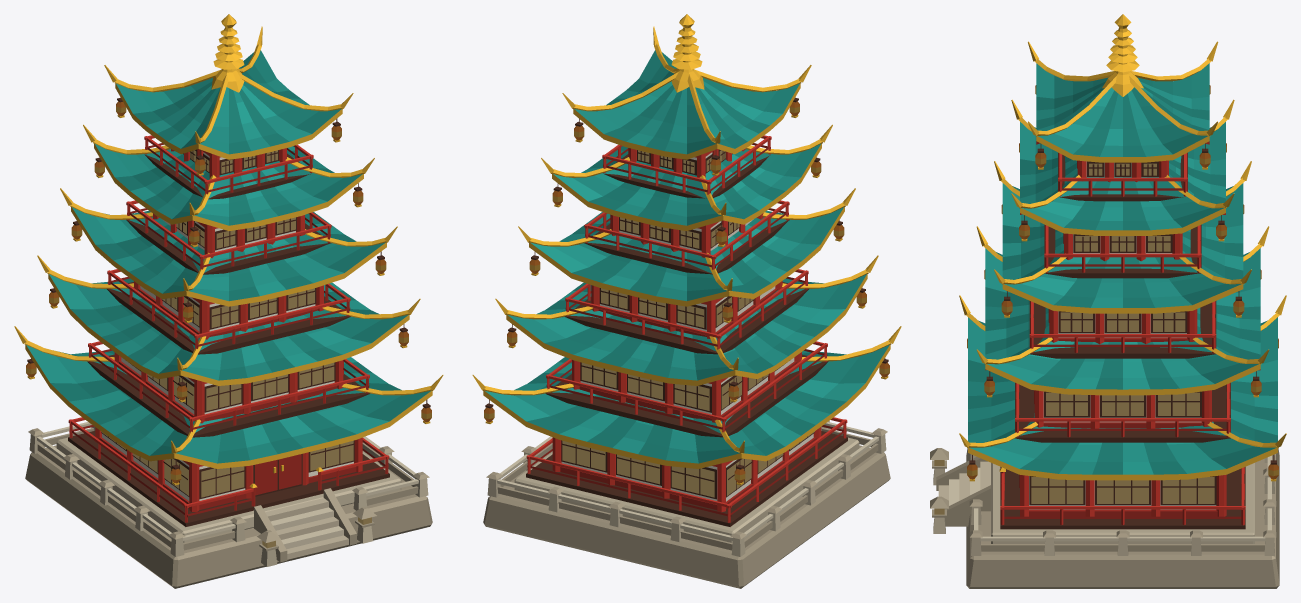
File: pagoda.glb
3 views of the same model, side by side, from view 1: azimuth 30°, elevation 25°; view 2: azimuth 150°, elevation 25°; view 3: azimuth 270°, elevation 25° (orthographic). The views are drawn at different scales.
Visible parts, largest first — view 1: pagoda; view 2: pagoda; view 3: pagoda.
Boxes of the visible parts, x1,y1,x2,y2 form: pagoda: (14, 14, 443, 588); pagoda: (472, 14, 901, 588); pagoda: (930, 14, 1286, 588).
Bounding box in the file's own units: 15.63 × 26.85 × 17.02.
Materials: 2 (2 with a texture image).
